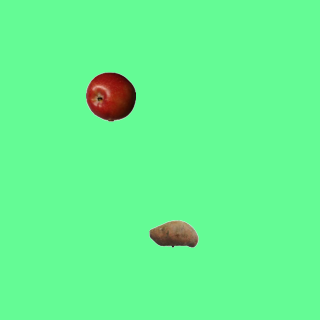Apple Braeburn: (85, 71, 135, 121)
Potato Sweet: (148, 208, 198, 258)
